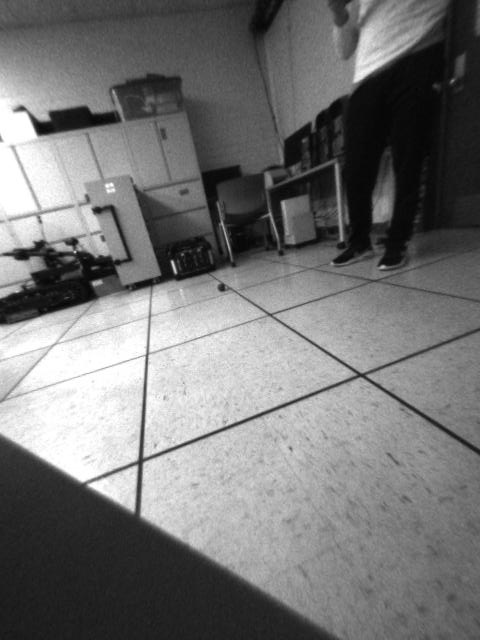dogtoy: (211, 277, 234, 292)
